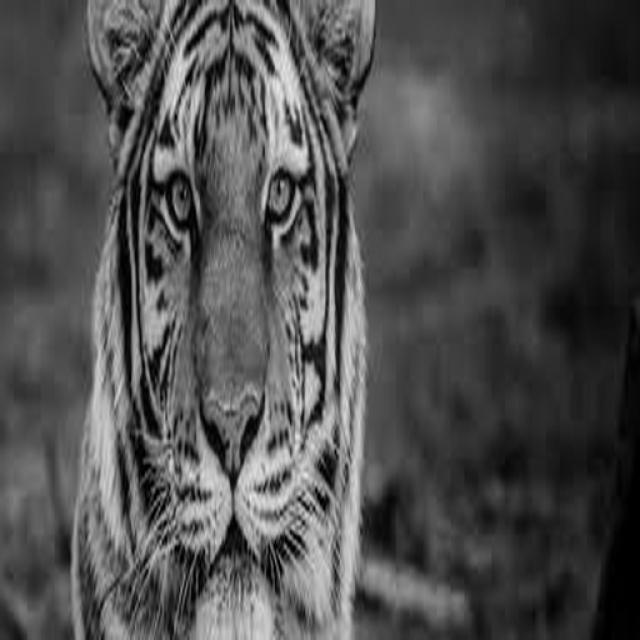Tiger: (66, 0, 382, 639)
